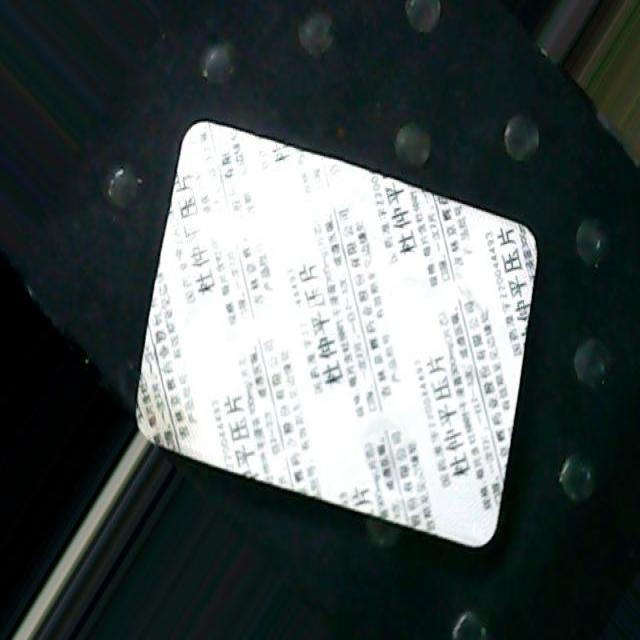-Hazardous waste - medicine inner packaging-: (134, 121, 536, 544)
